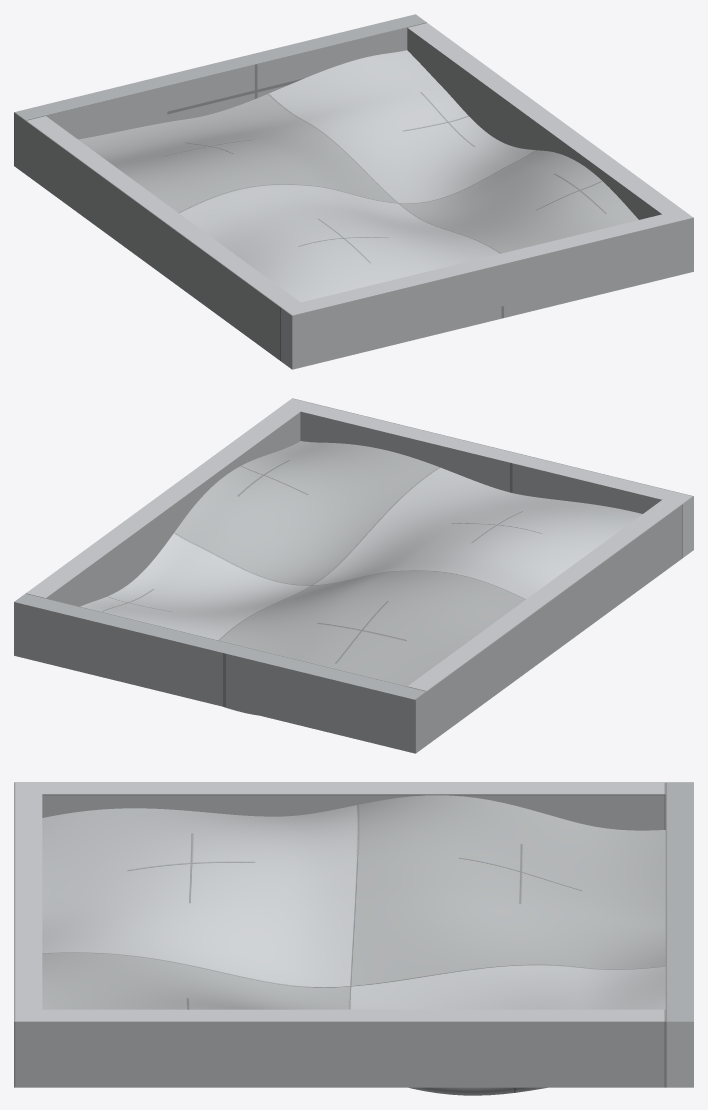
The model's file is TestScene0.glb.
The picture shows the model from 3 angles, top to bottom: view 1: azimuth 30°, elevation 25°; view 2: azimuth 150°, elevation 25°; view 3: azimuth 270°, elevation 25°; orthographic projection. The views are drawn at different scales.
Visible parts, largest first — view 1: BoundaryUpdated, GroundUpdated; view 2: GroundUpdated, BoundaryUpdated; view 3: GroundUpdated, BoundaryUpdated.
Boxes of the visible parts, left/top/right/bottom form: BoundaryUpdated: left=14, top=14, right=693, bottom=369; GroundUpdated: left=78, top=50, right=638, bottom=302; GroundUpdated: left=80, top=441, right=642, bottom=715; BoundaryUpdated: left=14, top=398, right=693, bottom=753; GroundUpdated: left=42, top=795, right=665, bottom=1095; BoundaryUpdated: left=14, top=782, right=693, bottom=1087.
Bounding box in the file's own units: 10 × 1.88 × 12.
Materials: 1 (1 with a texture image).
